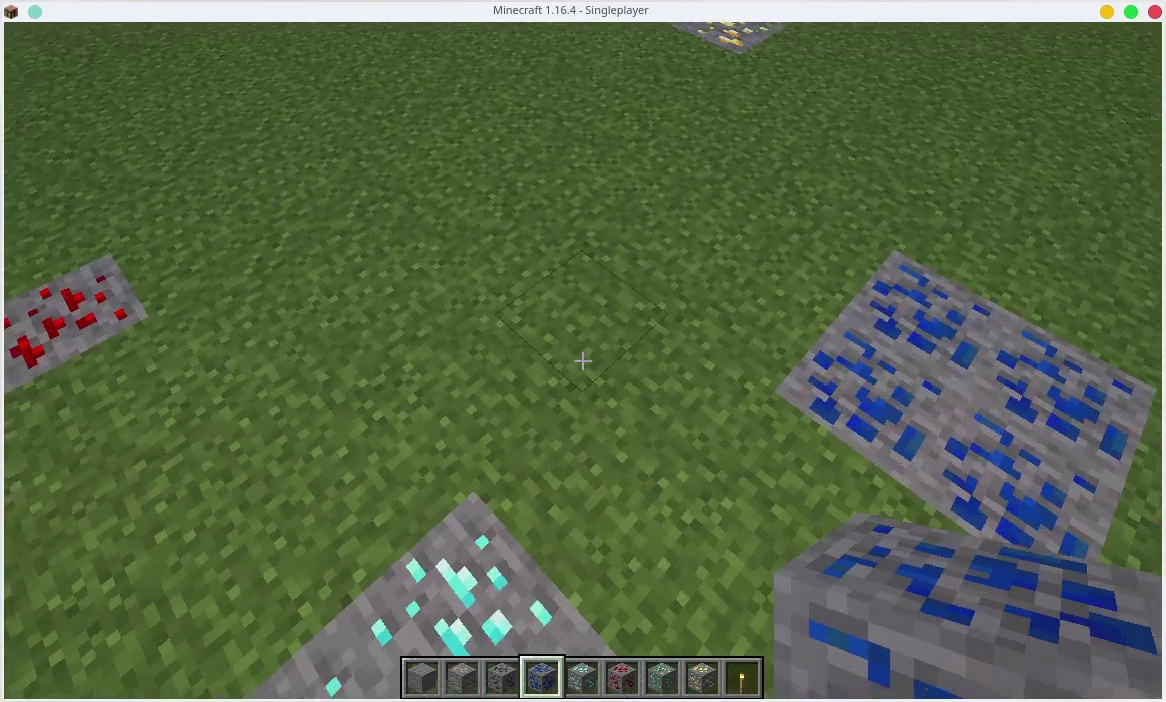gold: (697, 17, 772, 48), (684, 664, 718, 694)
